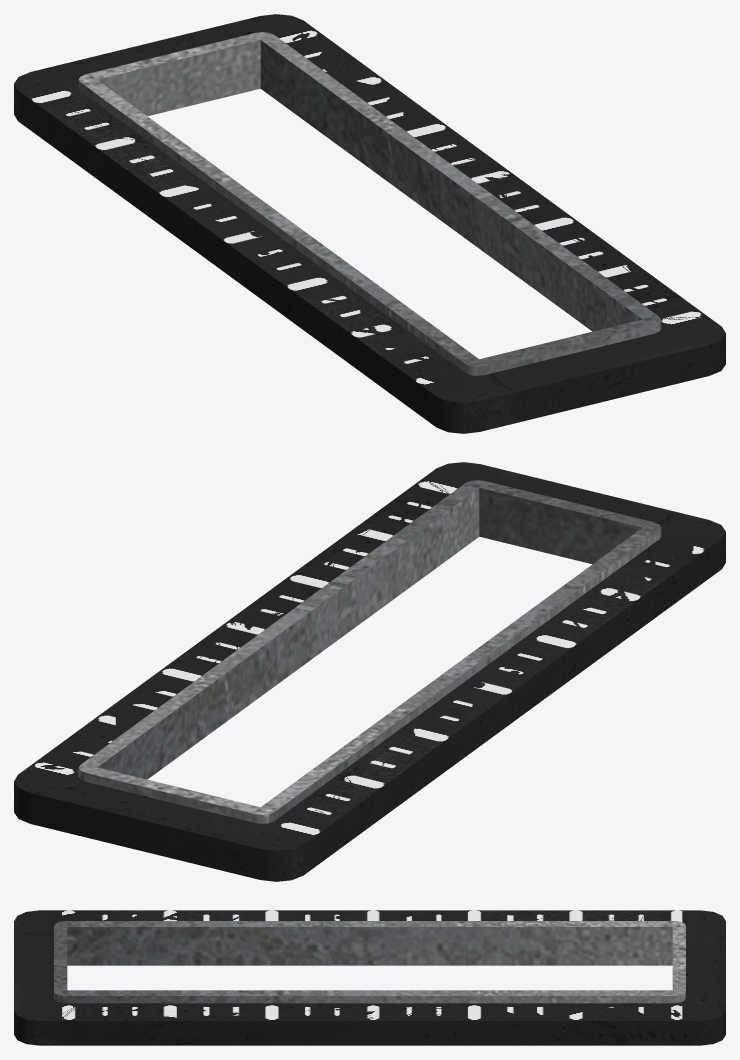
The model's file is F_Frame_01.fbx.
3 renders of one model, top to bottom at view 1: azimuth 30°, elevation 25°; view 2: azimuth 150°, elevation 25°; view 3: azimuth 270°, elevation 25°, orthographic. The views are drawn at different scales.
Parts seen in each view (by area): view 1: F_Frame_01; view 2: F_Frame_01; view 3: F_Frame_01.
Boxes of the visible parts, <box> form: F_Frame_01: <box>14,14,725,433</box>; F_Frame_01: <box>14,462,725,881</box>; F_Frame_01: <box>14,910,725,1045</box>.
Bounding box in the file's own units: 31.2 × 5.1 × 85.02.
1 material, 1 textured.
